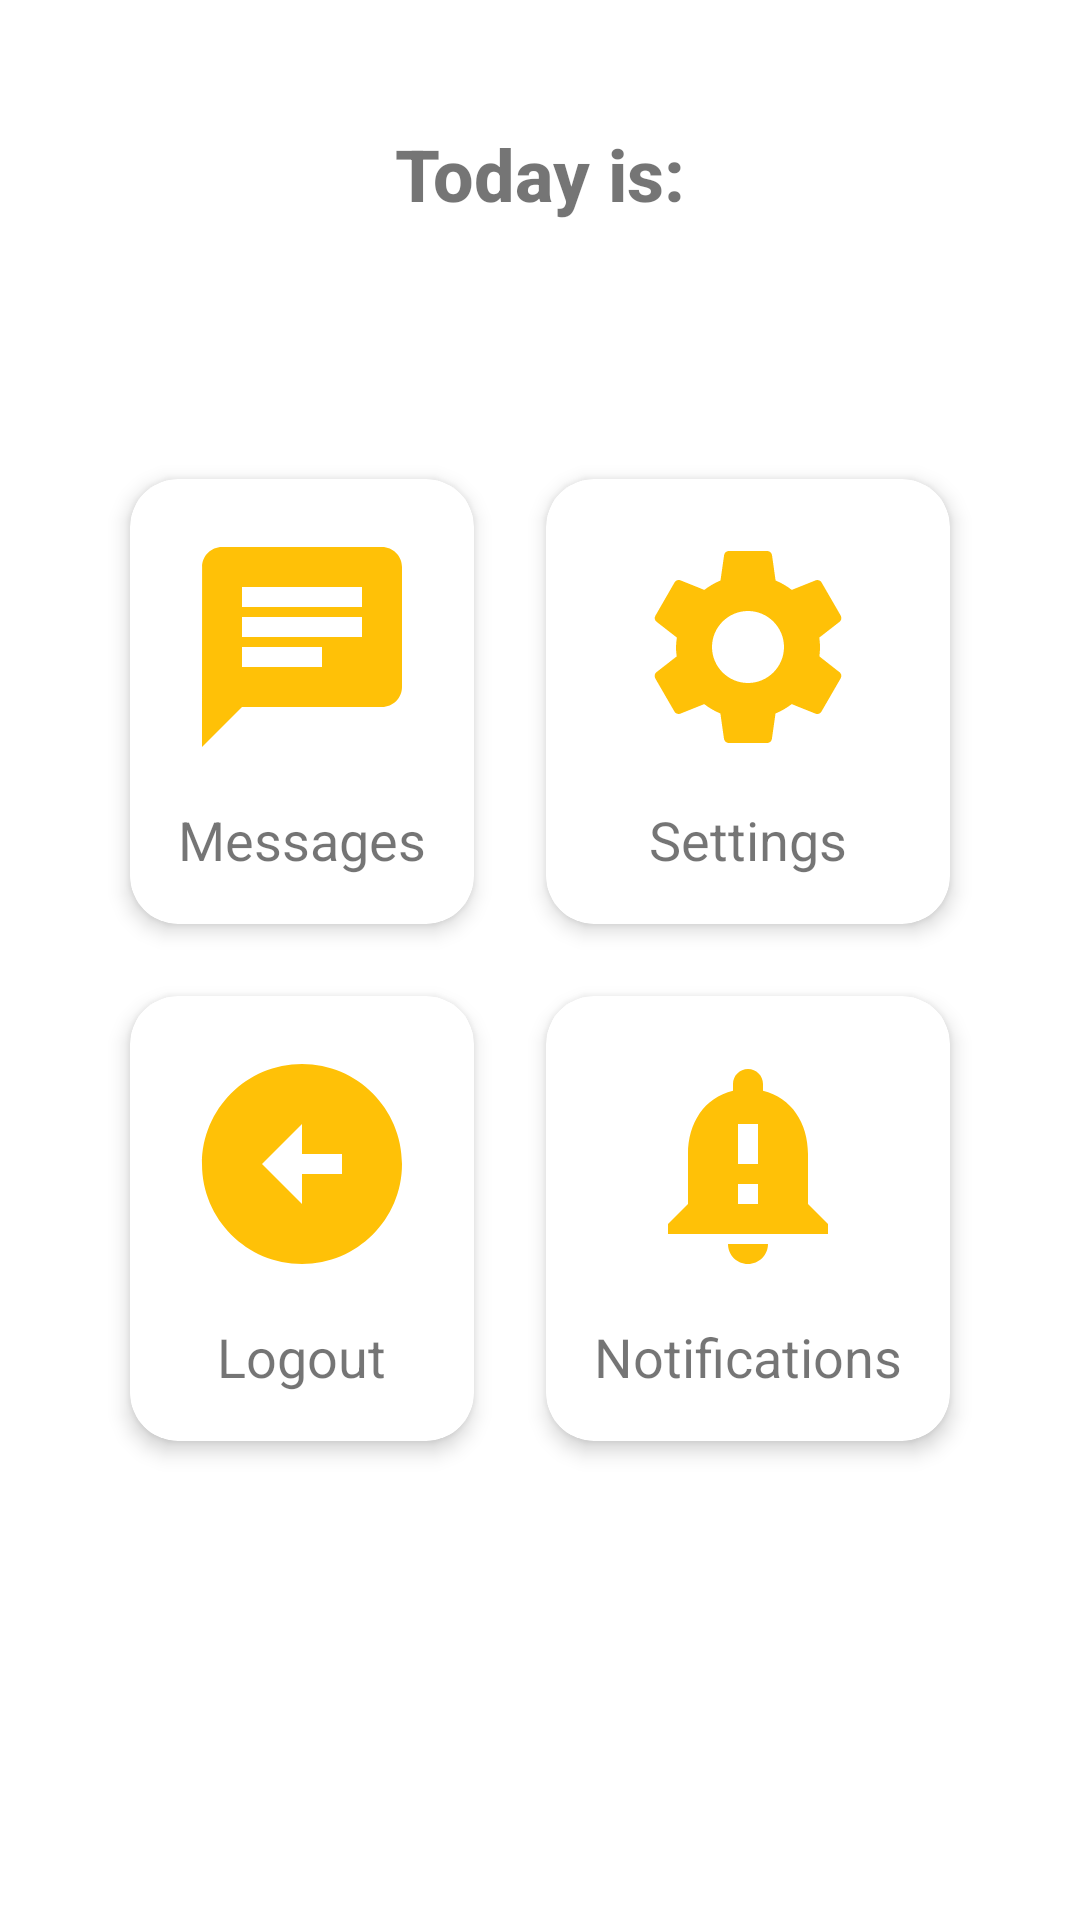

Where icons sit on this 1080 × 1920 app screen, as (x1, y1, x2, y2):
chat: (202, 547, 402, 747)
notification important: (668, 1069, 828, 1264)
signoff: (201, 1064, 402, 1264)
